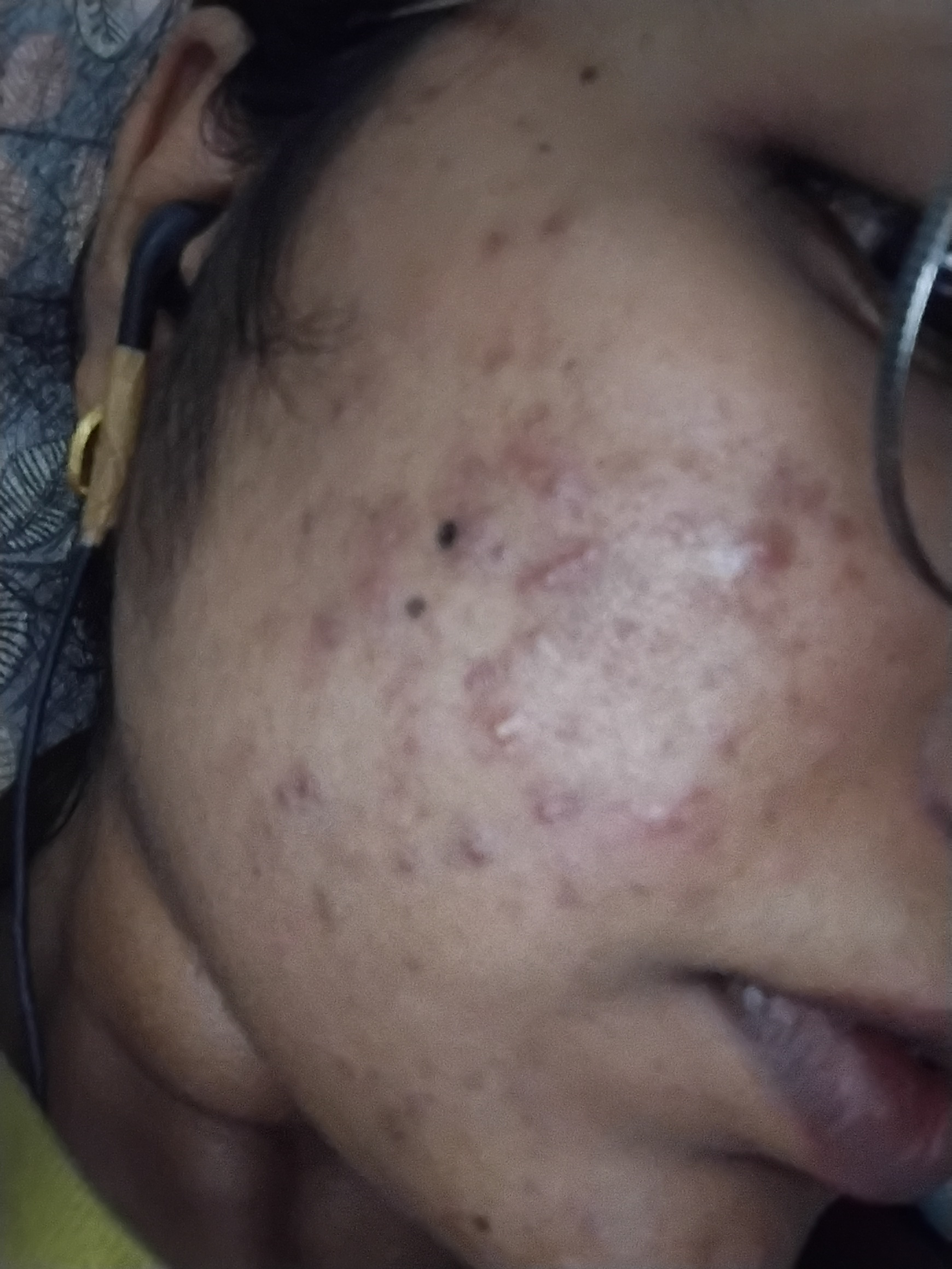papule: (740, 519, 808, 585), (574, 532, 620, 581), (528, 564, 567, 603)
pustule: (477, 711, 532, 757)
